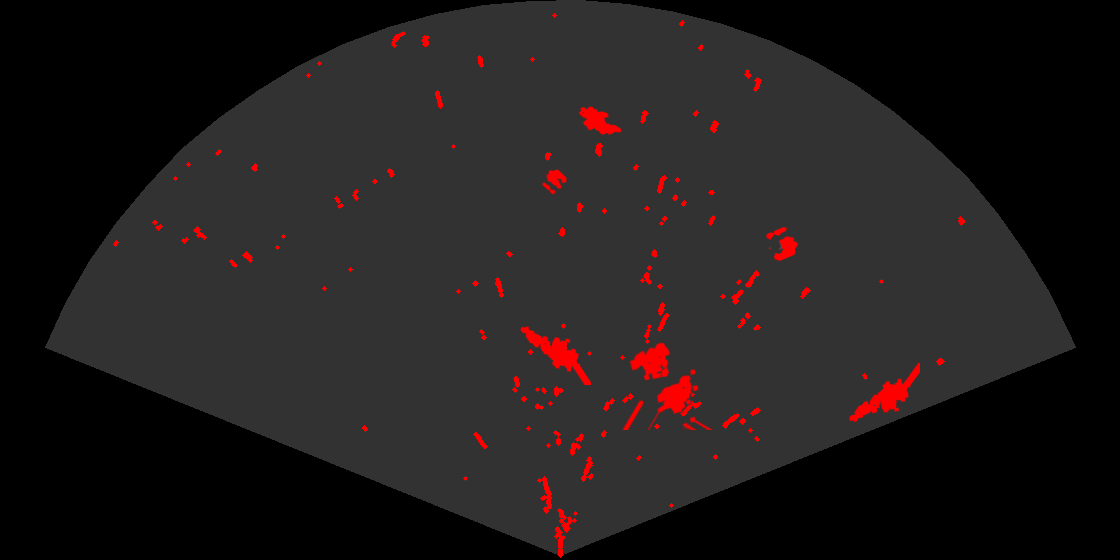AUV: (577, 105, 623, 136)
ball: (764, 225, 800, 263), (540, 168, 568, 196)
cage: (621, 341, 714, 430)
frogman: (848, 363, 920, 424), (519, 325, 591, 385)
